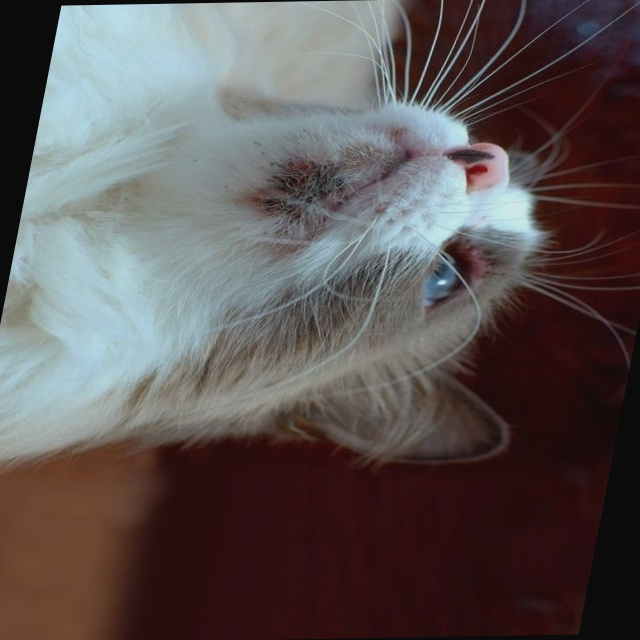acne: (246, 156, 353, 231)
